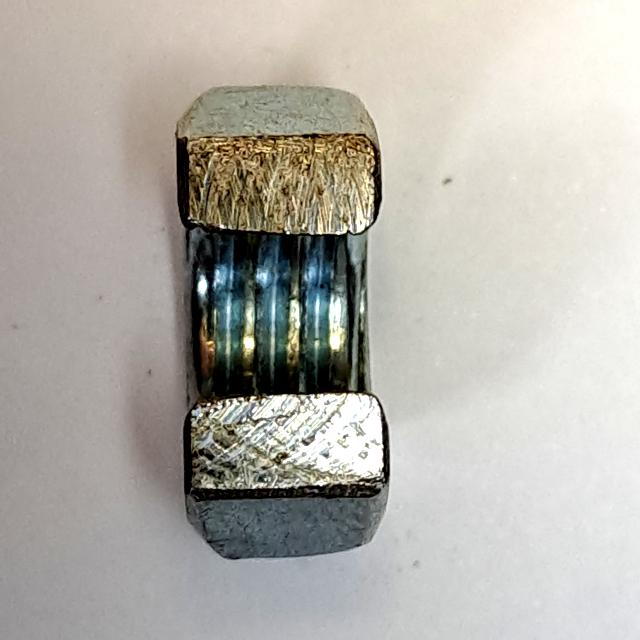Side-Fracture: (152, 74, 420, 578)
